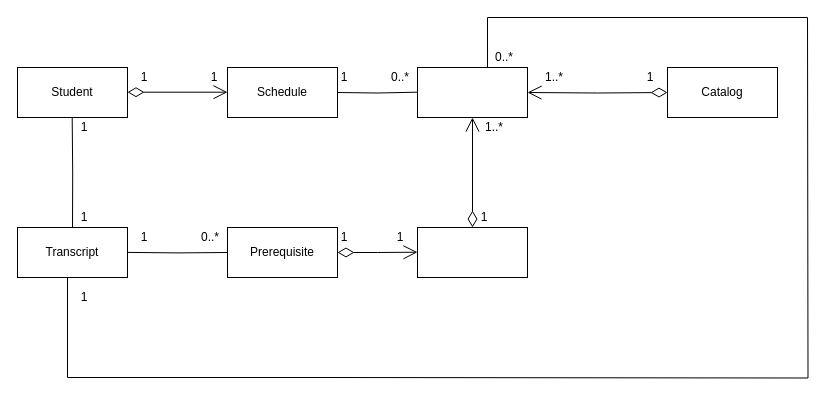
Some shapes in this 827 by 397 pixel diagram are drawn without their labels. Here are the shapes that lost their labels. From the top down, the centre of each, then its label:
At point (472, 92): "Section".
At point (472, 252): "Course".
